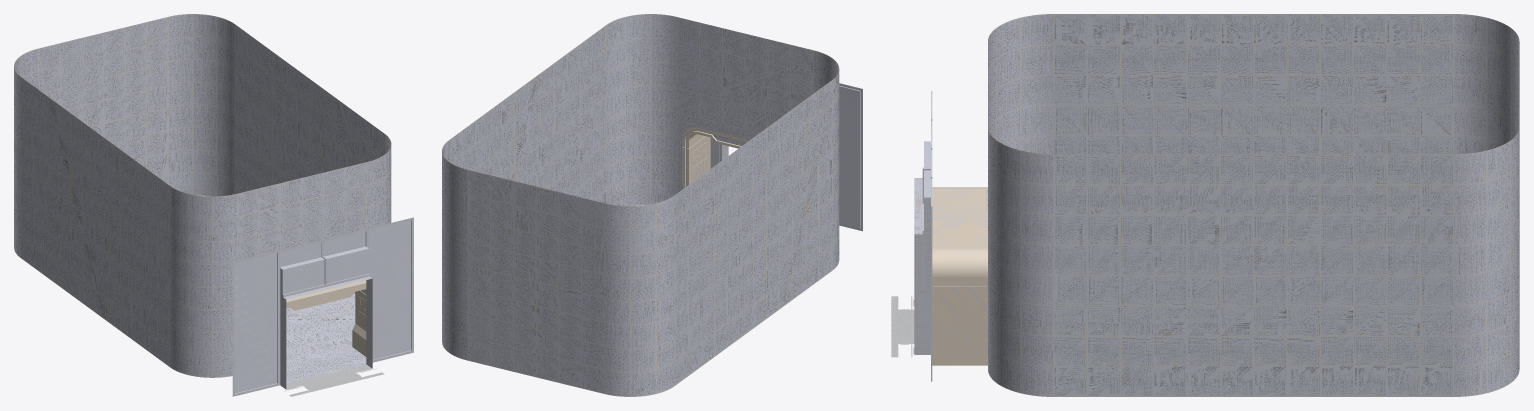
The model's file is holodeck-shell.glb.
The picture shows the model from 3 angles, left to right: view 1: azimuth 30°, elevation 25°; view 2: azimuth 150°, elevation 25°; view 3: azimuth 270°, elevation 25°; orthographic projection. The views are drawn at different scales.
Visible parts, largest first — view 1: instance_14.117, instance_10.006, instance_10.008, instance_10, instance_10.003, instance_10.001, SketchUp, instance_11.001, instance_10.009, instance_14.217, instance_14.211, instance_14.218 (+93 smaller); view 2: instance_14.117, instance_10.006, instance_14.514, instance_11.001, instance_10, instance_14.243, instance_14.169, instance_14.227, instance_14.157, instance_14.240, instance_14.160, instance_14.232 (+119 smaller); view 3: instance_14.117, instance_11.001, instance_10, instance_10.009, instance_14.260, instance_14.261, instance_14.262, instance_14.275, instance_14.276, instance_14.277, instance_14.280, instance_14.281 (+196 smaller).
Boxes of the visible parts, left/top/right/bottom form: instance_14.117: left=14, top=14, right=391, bottom=377; instance_10.006: left=235, top=253, right=277, bottom=393; instance_10.008: left=368, top=220, right=411, bottom=360; instance_10: left=232, top=217, right=413, bottom=396; instance_10.003: left=280, top=242, right=325, bottom=294; instance_10.001: left=324, top=231, right=368, bottom=284; SketchUp: left=286, top=347, right=366, bottom=383; instance_11.001: left=264, top=280, right=380, bottom=374; instance_10.009: left=284, top=364, right=384, bottom=396; instance_14.217: left=168, top=37, right=192, bottom=61; instance_14.211: left=168, top=82, right=192, bottom=106; instance_14.218: left=168, top=127, right=192, bottom=151; instance_14.117: left=442, top=14, right=839, bottom=396; instance_10.006: left=839, top=86, right=860, bottom=228; instance_14.514: left=677, top=113, right=759, bottom=192; instance_11.001: left=682, top=127, right=749, bottom=188; instance_10: left=719, top=83, right=862, bottom=231; instance_14.243: left=604, top=323, right=629, bottom=348; instance_14.169: left=651, top=62, right=676, bottom=87; instance_14.227: left=604, top=228, right=629, bottom=253; instance_14.157: left=651, top=157, right=676, bottom=182; instance_14.240: left=604, top=346, right=629, bottom=372; instance_14.160: left=651, top=133, right=676, bottom=159; instance_14.232: left=604, top=204, right=629, bottom=229; instance_14.117: left=988, top=14, right=1519, bottom=396; instance_11.001: left=932, top=187, right=987, bottom=365; instance_10: left=914, top=167, right=930, bottom=354; instance_10.009: left=891, top=296, right=914, bottom=357; instance_14.260: left=1154, top=15, right=1186, bottom=44; instance_14.261: left=1154, top=45, right=1186, bottom=74; instance_14.262: left=1154, top=75, right=1186, bottom=104; instance_14.275: left=1187, top=75, right=1219, bottom=104; instance_14.276: left=1187, top=45, right=1219, bottom=74; instance_14.277: left=1187, top=15, right=1219, bottom=44; instance_14.280: left=1254, top=15, right=1286, bottom=44; instance_14.281: left=1254, top=45, right=1286, bottom=74.
Bounding box in the file's own units: 6.07 × 4.9 × 11.49.
